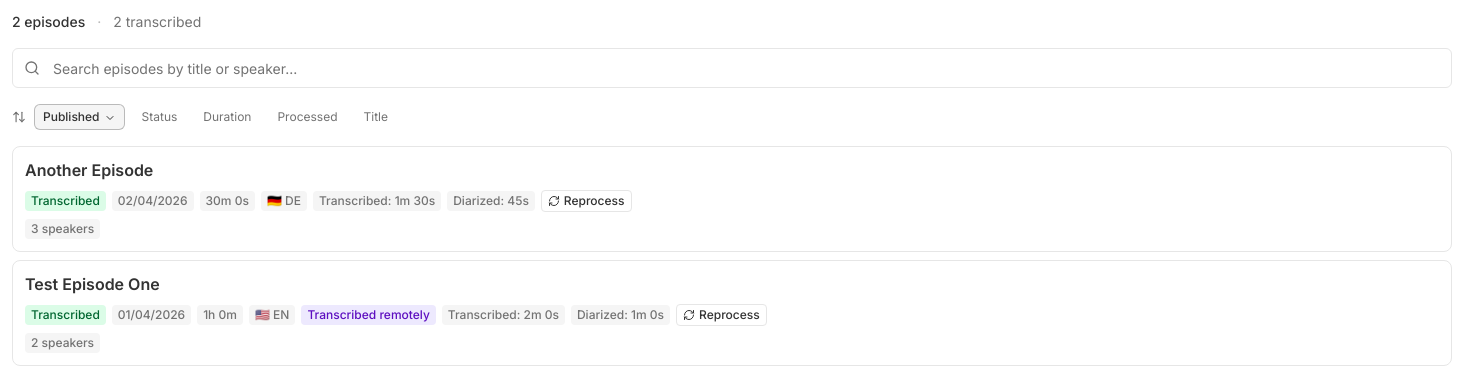
EpisodesList — search / filter › filters episodes by partial title match
Type "ep" into the field labelled "Search episodes by title or speaker" at {"x": 732, "y": 68}, box [12,48,1452,88]
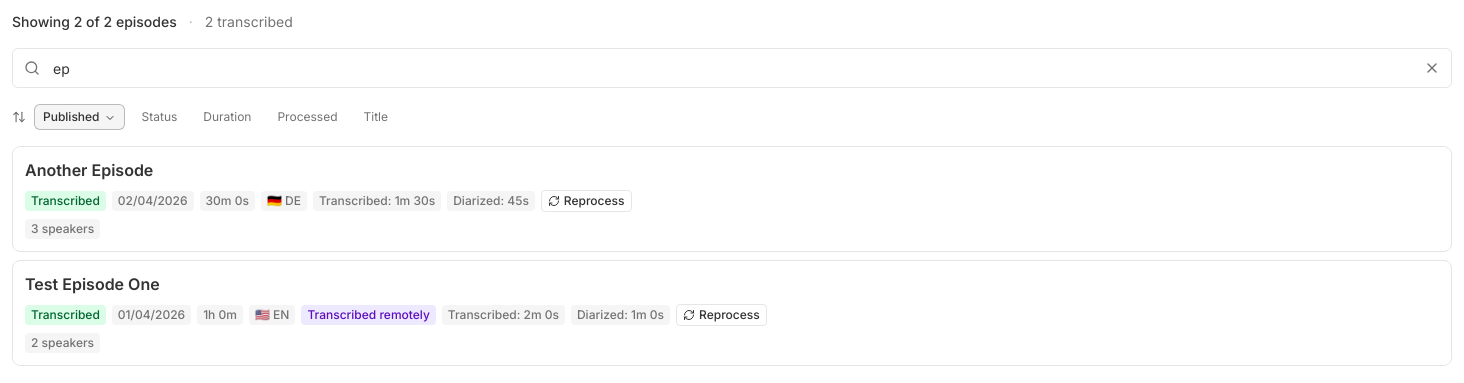
Expected: the text "Test Episode One" is shown, [25,274,160,294]
Expected: the text "Another Episode" is shown, [25,160,153,180]
Replace the text in the field named "Search episodes by title or speaker" with "one" at {"x": 732, "y": 68}, box [12,48,1452,88]
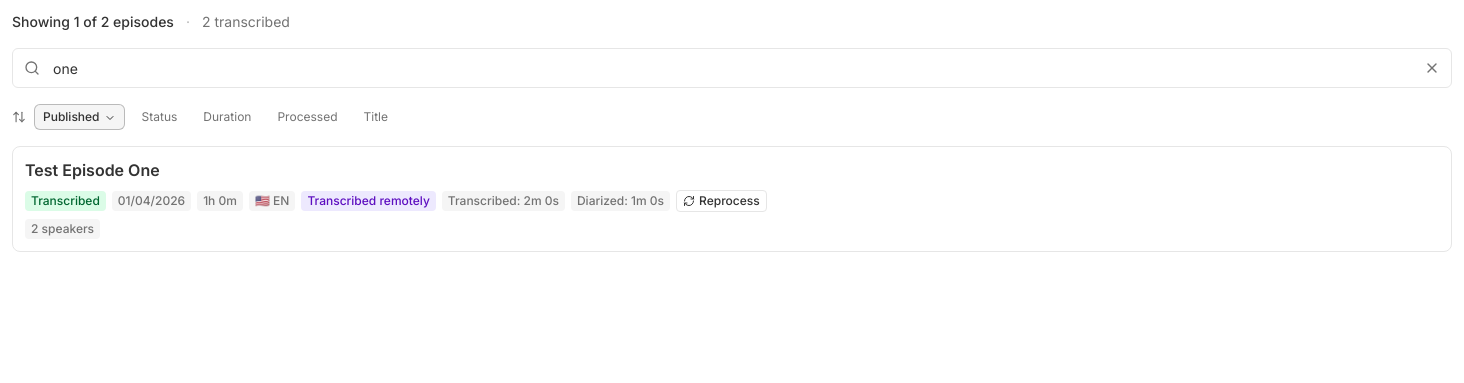
Expected: the text "Test Episode One" is shown, [25,160,160,180]
Result: the text "Another Episode" is gone
